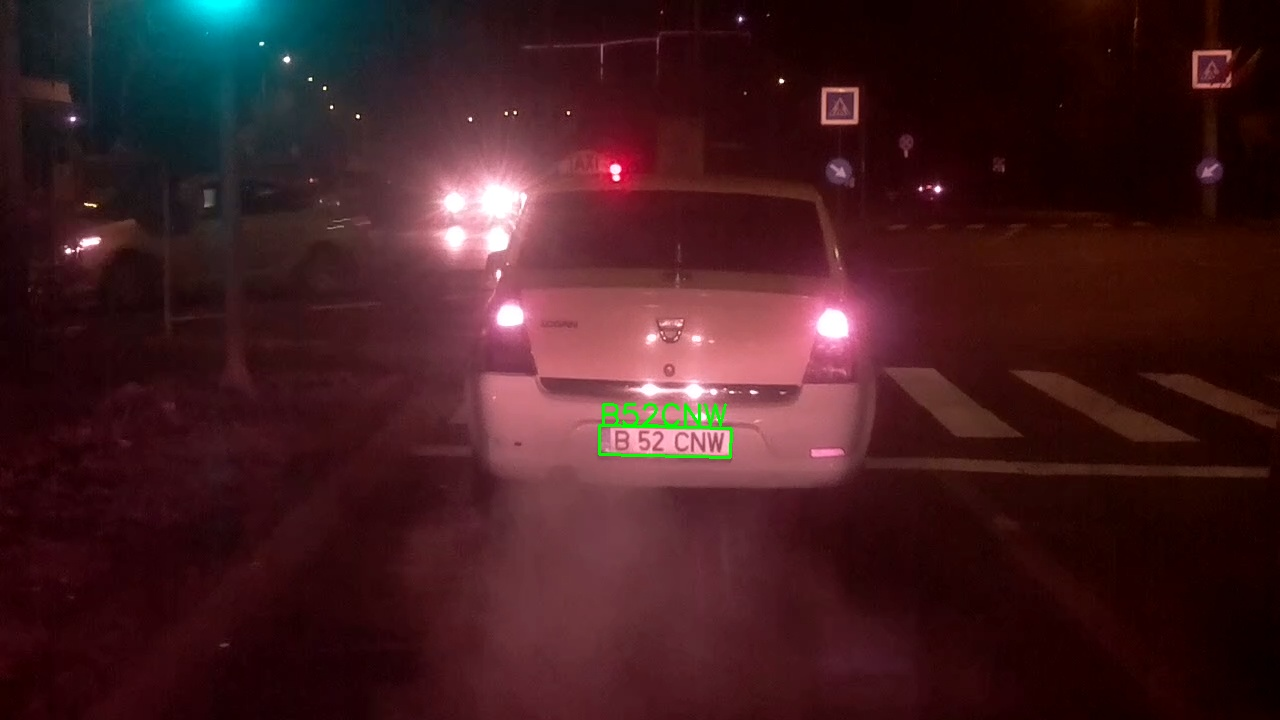license-plate: (598, 425, 732, 458)
